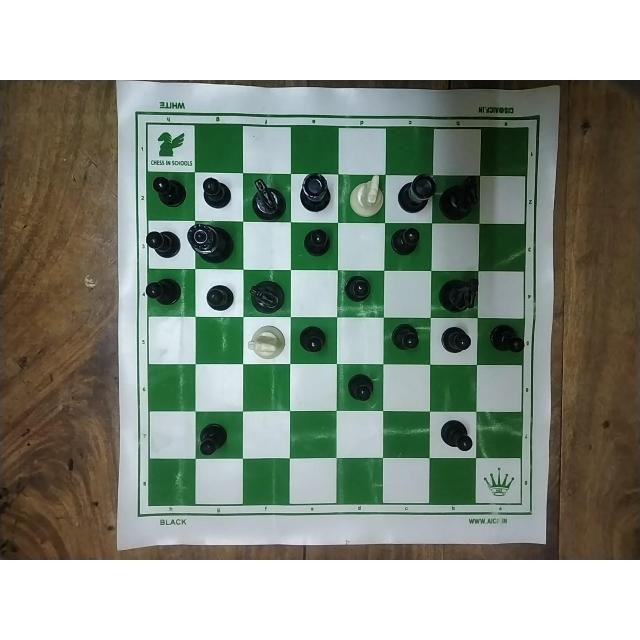black-knight: (440, 175, 482, 222), (249, 172, 289, 220), (438, 275, 480, 315), (248, 276, 284, 316)
black-pawn: (435, 411, 476, 455), (146, 170, 190, 210), (144, 218, 182, 261), (141, 273, 189, 306), (384, 224, 423, 260), (340, 272, 375, 312), (385, 320, 425, 353), (199, 174, 233, 210), (489, 322, 525, 356), (438, 324, 473, 358), (294, 322, 329, 356), (346, 371, 378, 407), (302, 225, 333, 261), (201, 419, 230, 457), (204, 279, 235, 313)
black-queen: (187, 223, 237, 265)
black-rook: (398, 172, 438, 213), (299, 170, 332, 214)
white-knight: (342, 173, 387, 221), (243, 322, 287, 361)
